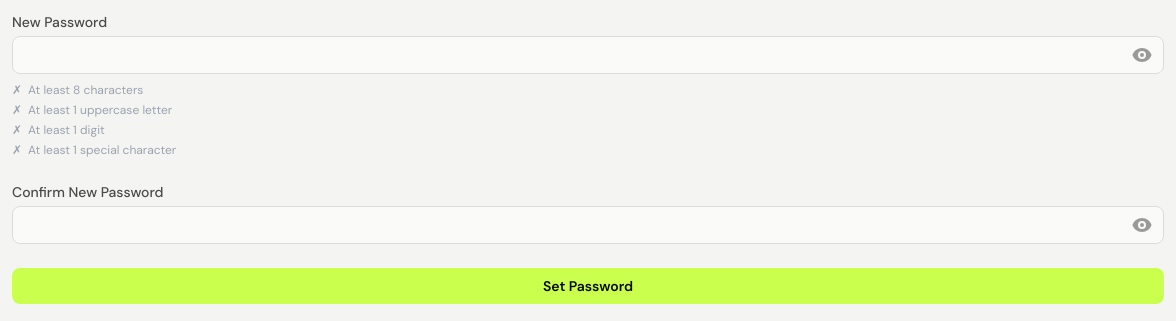
Test: SetupAccountForm › expired / invalid token (410) › shows expired link message with 'request a new link' button
The image size is (1176, 321).
Type "SecurePass1!" into the password field labelled "New Password" at {"x": 588, "y": 55}, box [12,36,1164,74]
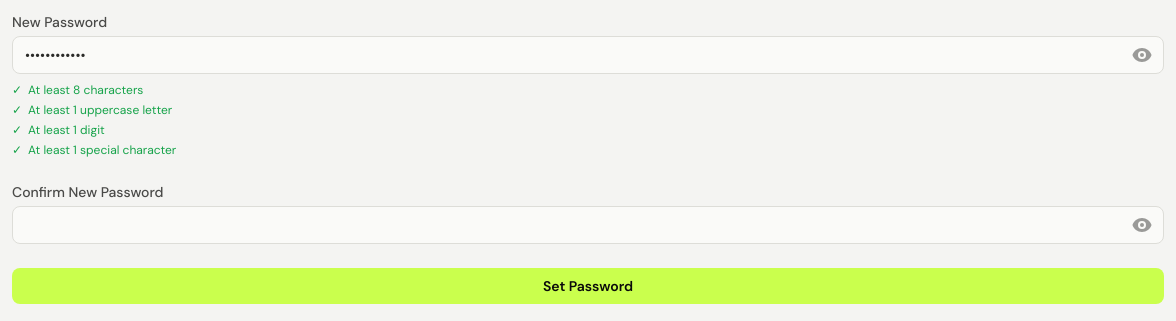
Type "SecurePass1!" into the password field labelled "Confirm New Password" at {"x": 588, "y": 225}, box [12,206,1164,244]
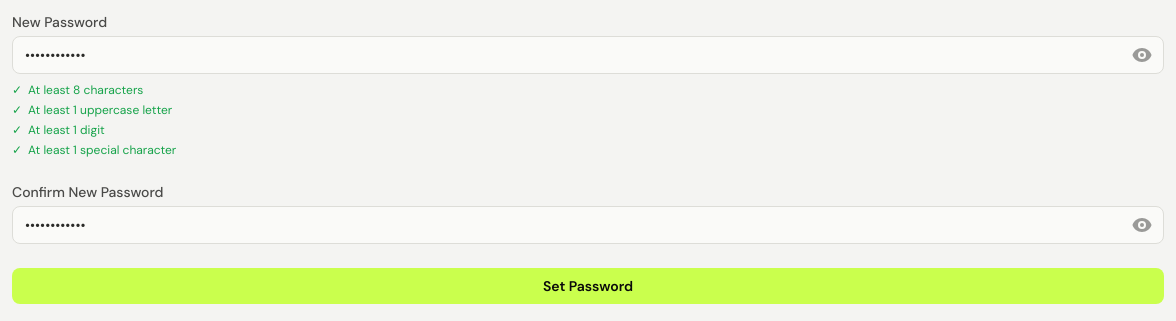
Click the button "Set Password" at {"x": 588, "y": 286}, box [12,268,1164,304]
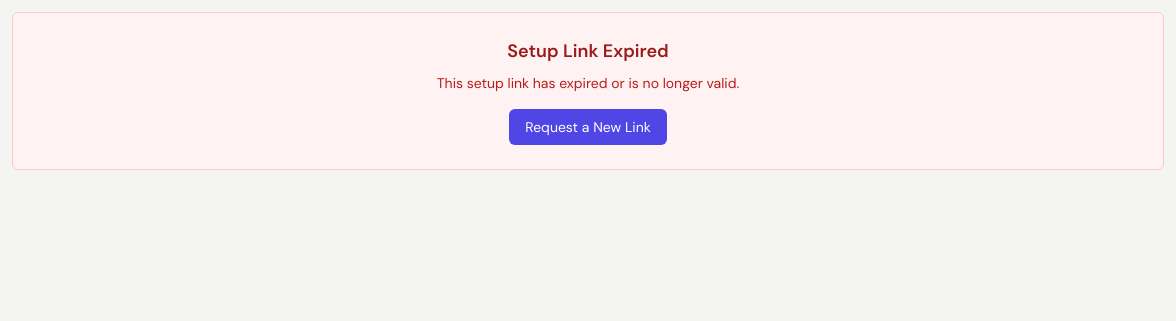
Check: the text "This setup link has expired or is no longer valid." is shown, box [437,74,739,92]
Check: the button "Request a New Link" is shown, box [509,109,667,145]
